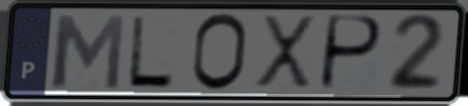2: (389, 12, 449, 96)
L: (124, 14, 177, 91)
M: (49, 12, 128, 92)
O: (189, 11, 251, 94)
P: (316, 13, 386, 94)
X: (252, 12, 318, 93)
